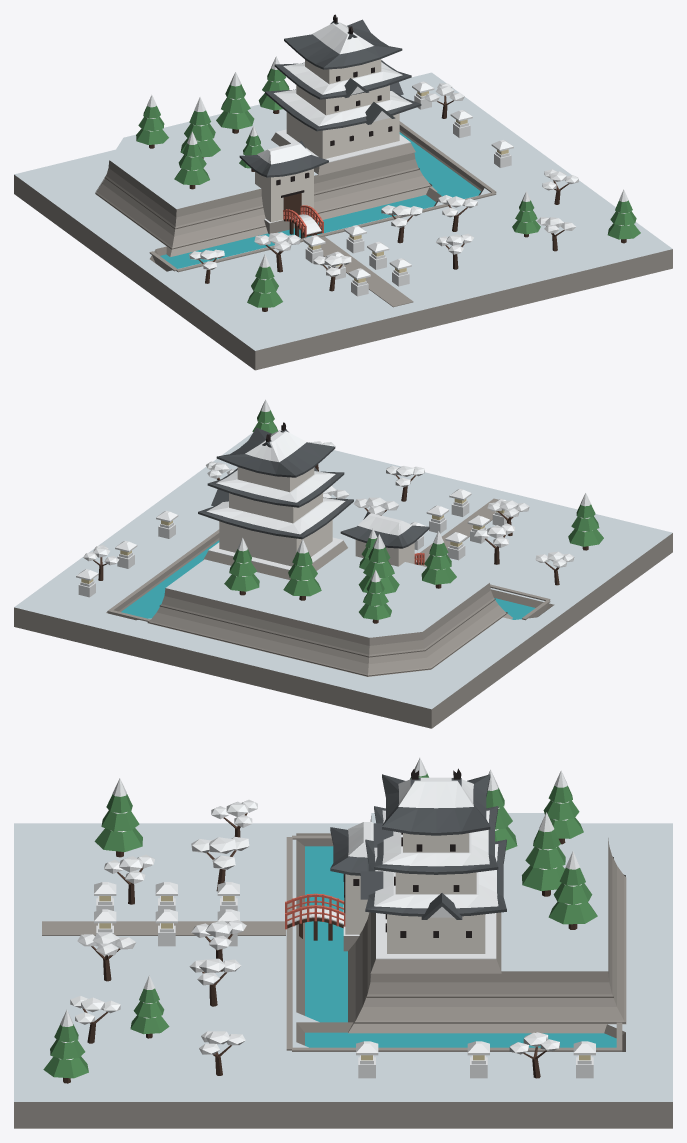
Rendered from hirosaki-castle.glb.
The picture shows the model from 3 angles, top to bottom: view 1: azimuth 30°, elevation 25°; view 2: azimuth 150°, elevation 25°; view 3: azimuth 270°, elevation 25°; orthographic projection. The views are drawn at different scales.
Visible parts, largest first — view 1: hirosaki_terrain, hirosaki_stone, hirosaki_snow, hirosaki_foliage, hirosaki_plaster, hirosaki_tile, hirosaki_water, hirosaki_bark, hirosaki_darkstone, hirosaki_vermilion; view 2: hirosaki_terrain, hirosaki_stone, hirosaki_snow, hirosaki_foliage, hirosaki_tile, hirosaki_plaster, hirosaki_darkstone, hirosaki_water, hirosaki_bark; view 3: hirosaki_terrain, hirosaki_stone, hirosaki_snow, hirosaki_foliage, hirosaki_water, hirosaki_tile, hirosaki_plaster, hirosaki_darkstone, hirosaki_bark, hirosaki_vermilion, hirosaki_roof.
Part boxes in pixels (<box>): hirosaki_terrain: <box>14,72,672,350</box>; hirosaki_stone: <box>14,121,672,370</box>; hirosaki_snow: <box>146,22,629,296</box>; hirosaki_foliage: <box>136,68,640,307</box>; hirosaki_plaster: <box>255,59,399,222</box>; hirosaki_tile: <box>239,19,421,177</box>; hirosaki_water: <box>160,132,480,268</box>; hirosaki_bark: <box>149,95,626,311</box>; hirosaki_darkstone: <box>95,130,483,271</box>; hirosaki_vermilion: <box>283,205,323,237</box>; hirosaki_terrain: <box>14,432,672,709</box>; hirosaki_stone: <box>14,498,672,728</box>; hirosaki_snow: <box>76,399,592,606</box>; hirosaki_foliage: <box>224,410,603,620</box>; hirosaki_tile: <box>198,427,429,548</box>; hirosaki_plaster: <box>219,467,414,566</box>; hirosaki_darkstone: <box>106,538,554,676</box>; hirosaki_water: <box>121,540,535,619</box>; hirosaki_bark: <box>93,464,588,623</box>; hirosaki_terrain: <box>14,813,672,1101</box>; hirosaki_stone: <box>14,816,672,1128</box>; hirosaki_snow: <box>58,758,595,1078</box>; hirosaki_foliage: <box>43,773,597,1078</box>; hirosaki_water: <box>305,846,616,1047</box>; hirosaki_tile: <box>330,774,506,919</box>; hirosaki_plaster: <box>345,833,485,953</box>; hirosaki_darkstone: <box>296,833,625,1051</box>; hirosaki_bark: <box>63,813,577,1083</box>; hirosaki_vermilion: <box>285,893,345,929</box>; hirosaki_roof: <box>343,768,471,937</box>.
Bounding box in the file's own units: 22.4 × 9.1 × 22.4.
